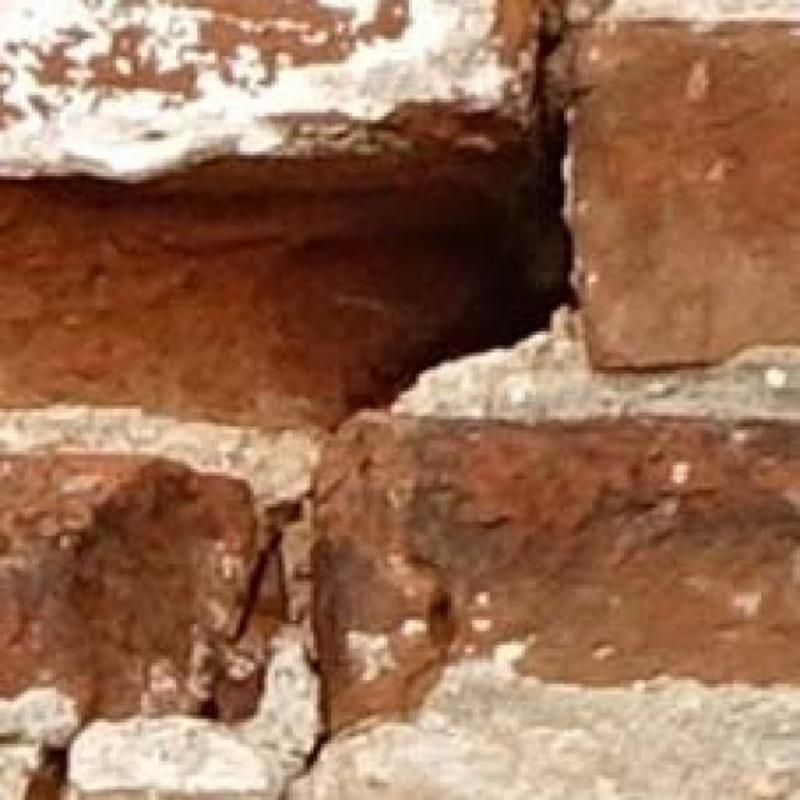crack: (0, 4, 567, 427), (234, 530, 280, 640)
